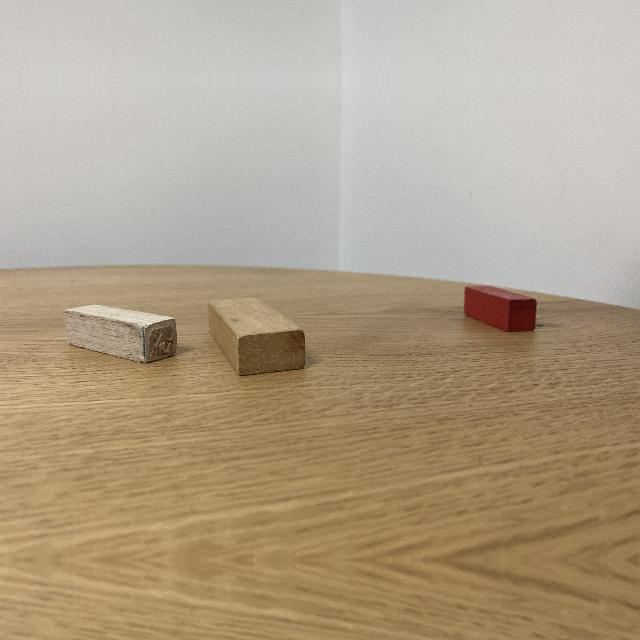block: (63, 305, 178, 366)
jenga: (206, 298, 308, 378)
red block: (465, 285, 539, 335)
